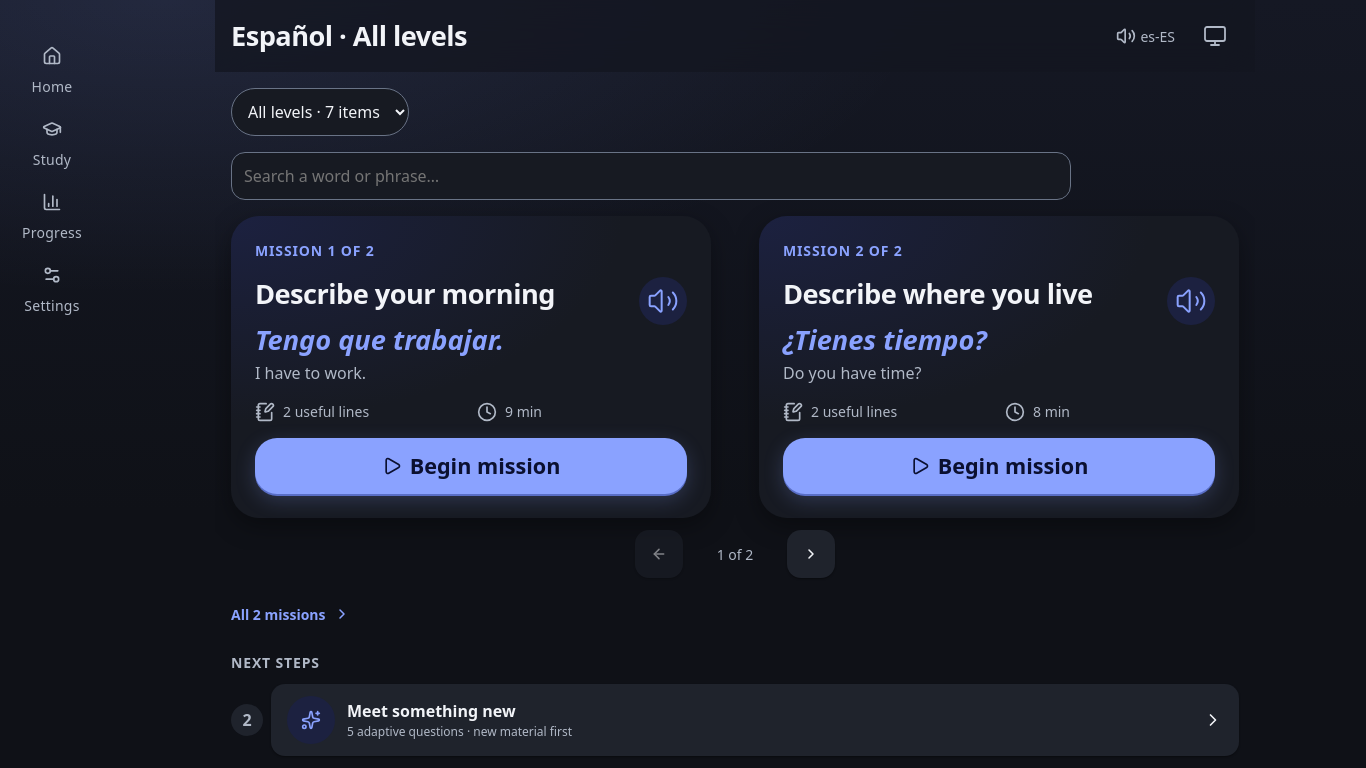
what a lookup answers › gives a headword its meaning, kind and gender
The width and height of the screenshot is (1366, 768).
Type "cerveza" into the search field at (651, 176), box x1=231 y1=152 x2=1071 y2=200
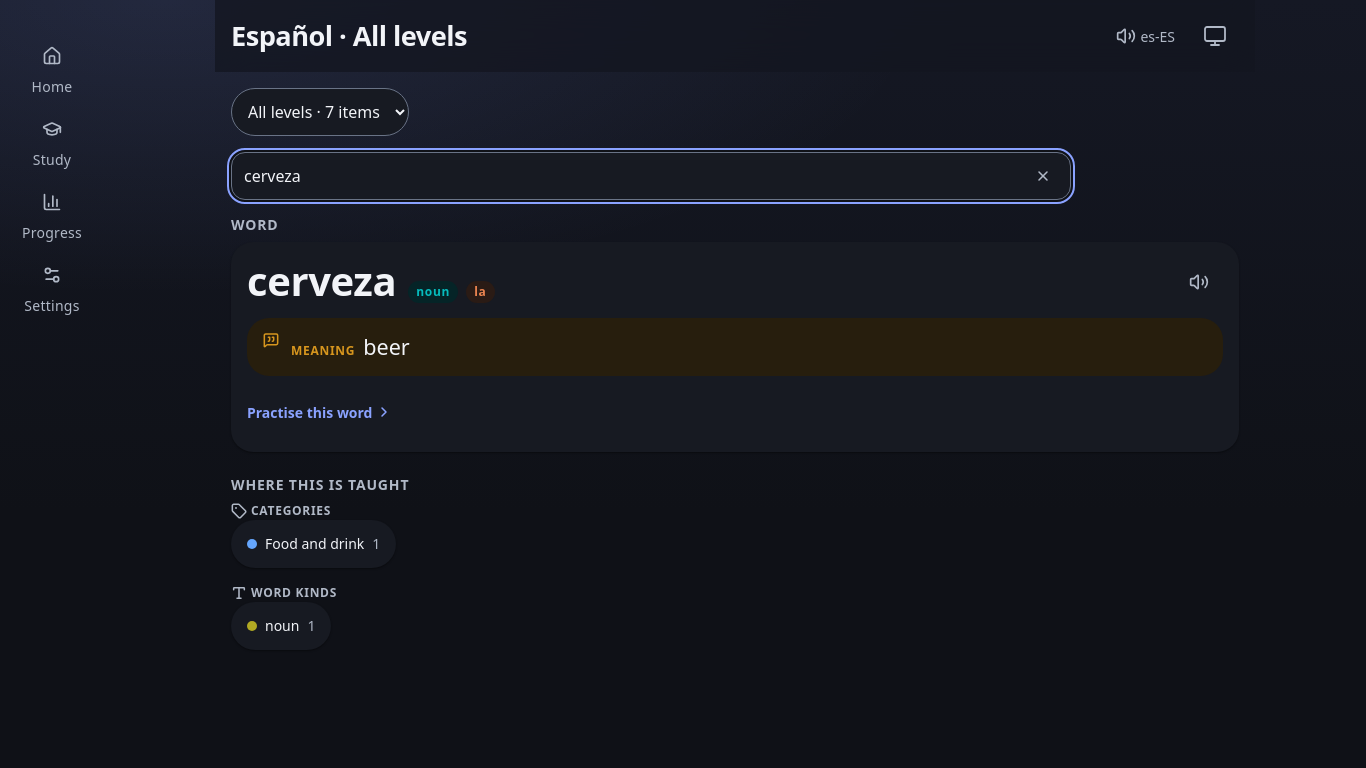
expect the heading "cerveza" is shown: met, box x1=247 y1=258 x2=396 y2=304
expect the text "beer" is shown: met, box x1=363 y1=332 x2=410 y2=360
expect the text "noun" next to "la" is shown: met, box x1=416 y1=282 x2=450 y2=300
